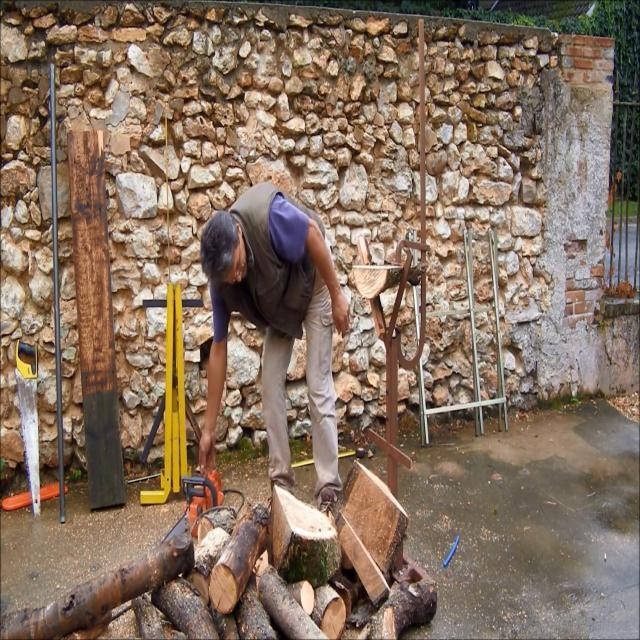Chainsaw: (136, 438, 244, 580)
